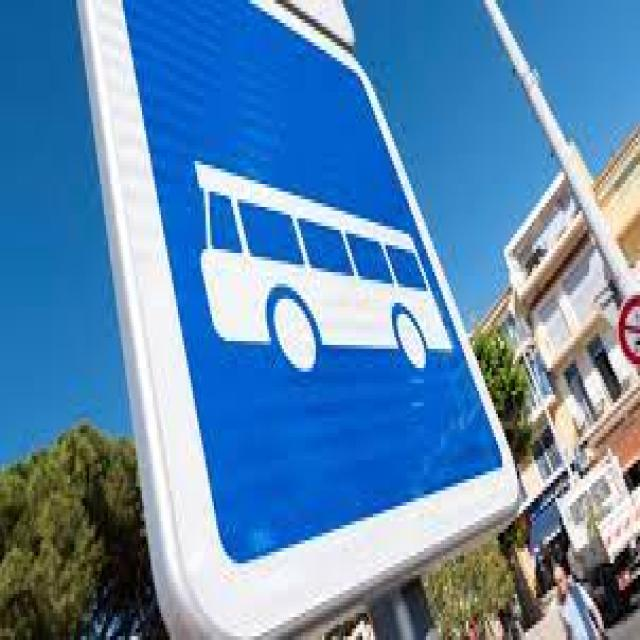ArretBus: (75, 0, 523, 640)
